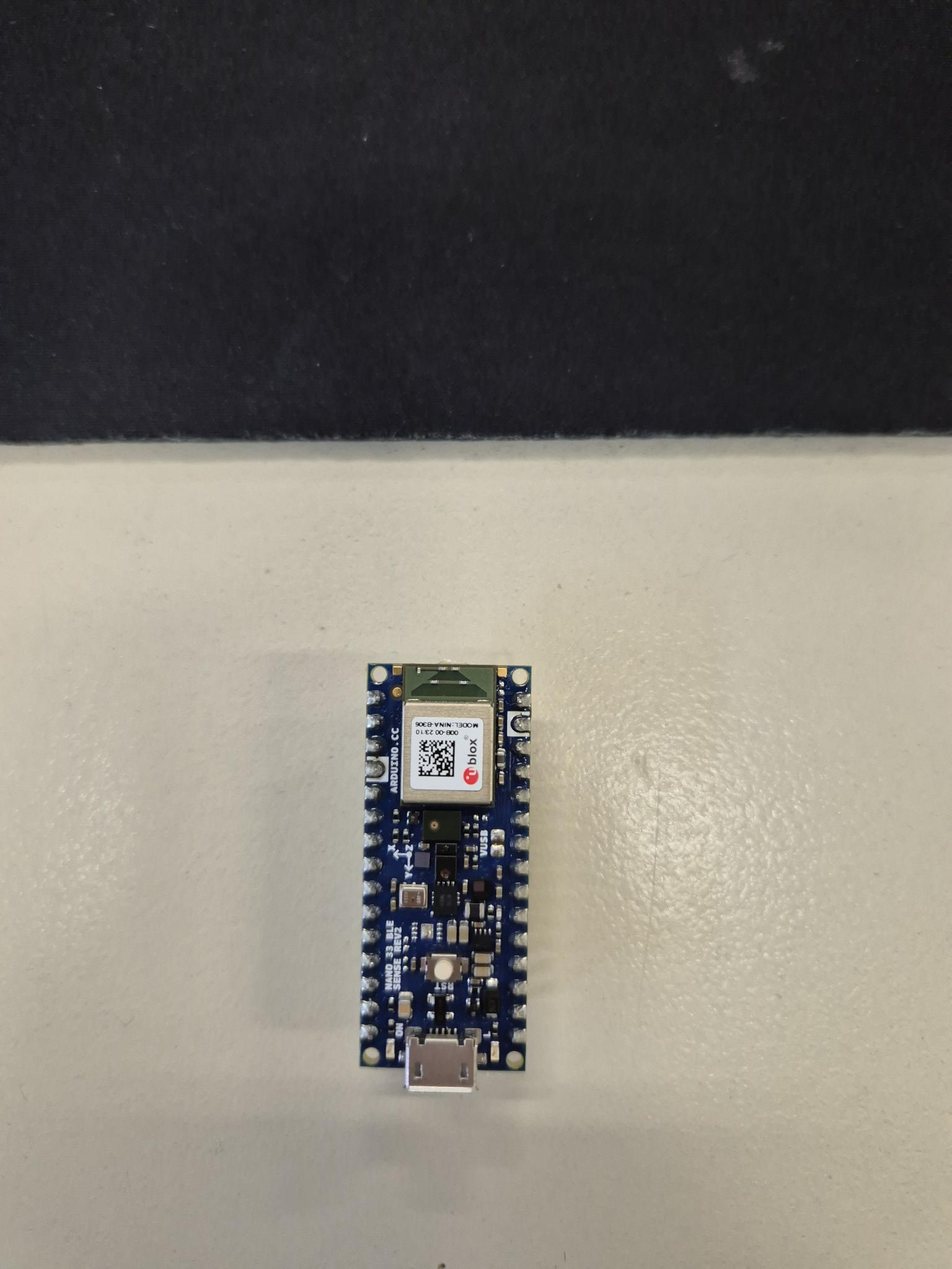arduino-nano-ble-sense: (360, 664, 531, 1090)
